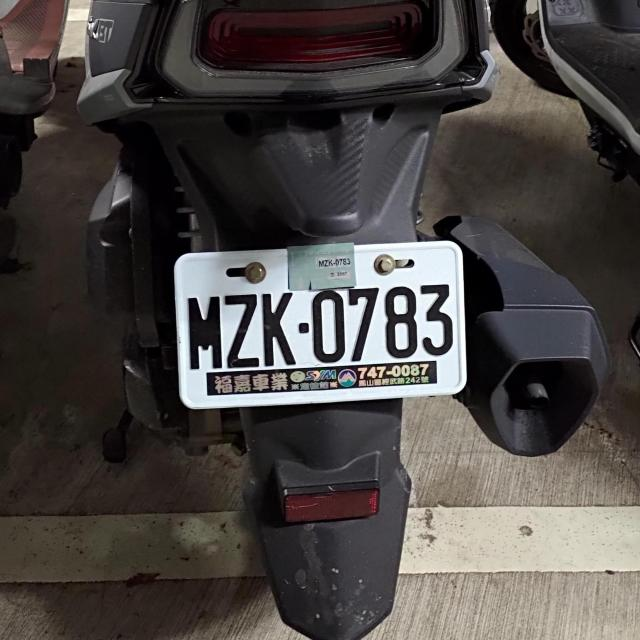W: (168, 235, 466, 404)
